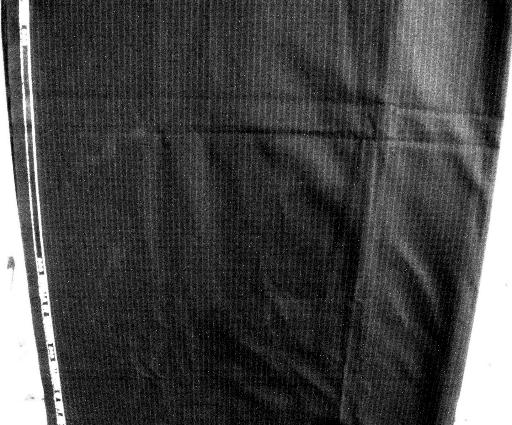fabric_perfect: (0, 1, 512, 420)
